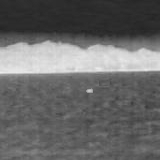Target: (85, 88, 94, 94)
